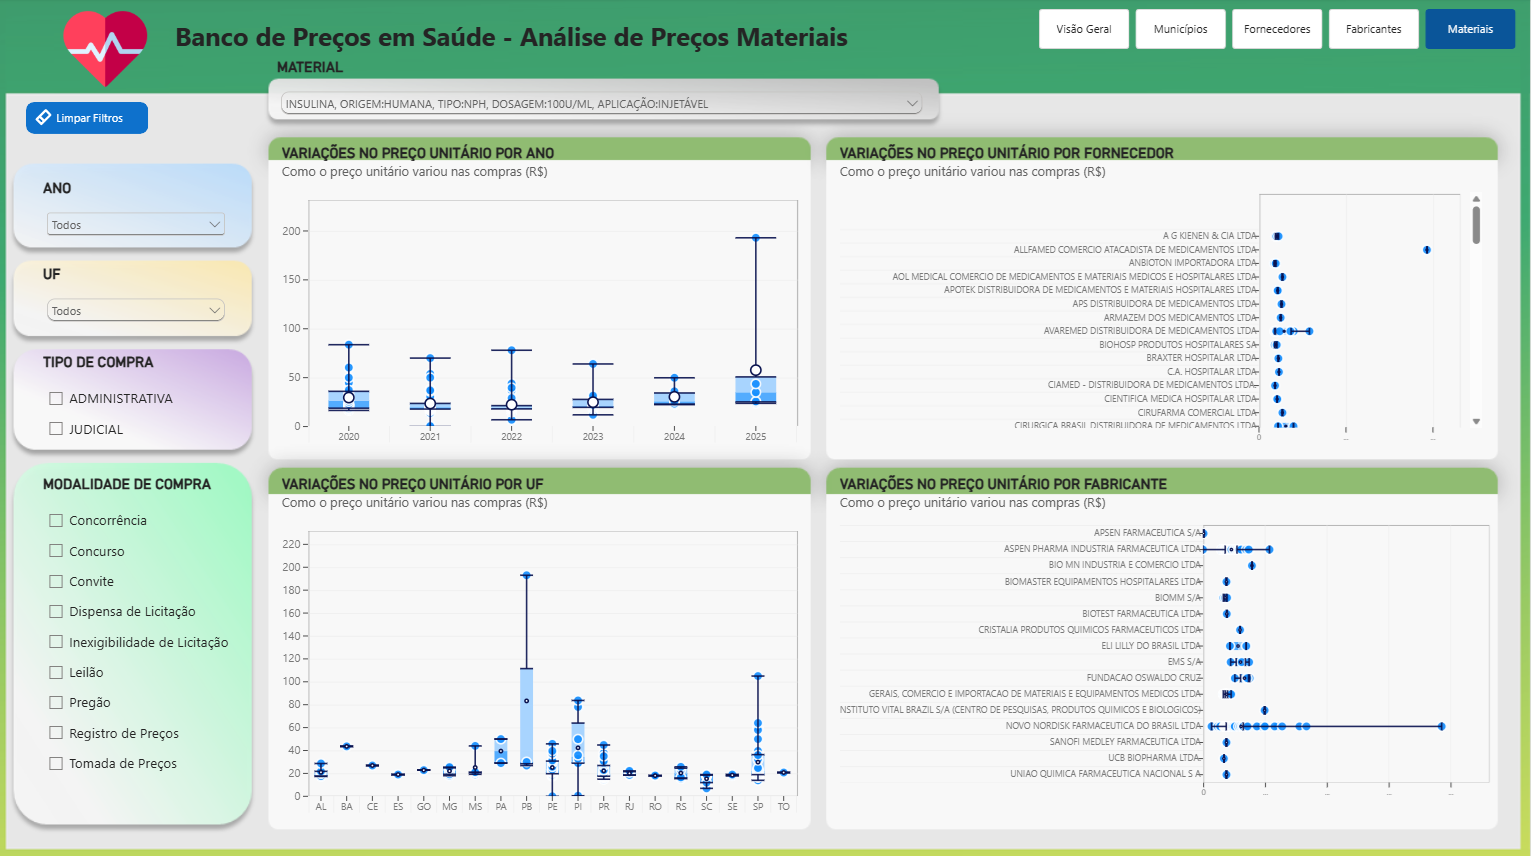

The dashboard page shown, as its layout file describes it:
{"tool":"powerbi","page":{"name":"Materiais","canvas":[1920,1080],"ordinal":4},"visuals":[{"type":"slicer","title":"MATERIAL","fields":{"Values":["Dim_materiais.descricao_catmat"]},"box":[350,75.7,814.3,80],"z":2},{"type":"slicer","title":"TIPO DE COMPRA","fields":{"Values":["Dim_tipo_compra.tipo_compra"]},"box":[56.9,445.1,233.3,118.3],"z":5},{"type":"slicer","title":"MODALIDADE DE COMPRA","fields":{"Values":["Dim_modalidade_compra.modalidade_compra"]},"box":[56.9,597.7,233.3,393.3],"z":6},{"type":"slicer","title":"ANO","fields":{"Values":["Dim_ano.ano"]},"box":[56.7,226.7,233.3,125],"z":7},{"type":"slicer","title":"UF","fields":{"Values":["Dim_municipios.uf"]},"box":[56.9,335.1,233.3,73.3],"z":8},{"type":"actionButton","box":[35,130,153.3,40],"z":9},{"type":"BoxandWhiskerByMAQ1823AD39DT234AB532063E128AX","title":"VARIAÇÕES NO PREÇO UNITÁRIO POR UF","fields":{"measure":["Sum(Fato_BPS_20_2026.preco_unitario_reais)"],"category":["Fato_BPS_20_2026.preco_unitario_reais"],"categoryGroup":["Dim_municipios.uf"]},"box":[340,584.3,678.6,452.9],"z":10},{"type":"BoxandWhiskerByMAQ1823AD39DT234AB532063E128AX","title":"VARIAÇÕES NO PREÇO UNITÁRIO POR ANO","fields":{"measure":["Sum(Fato_BPS_20_2026.preco_unitario_reais)"],"category":["Fato_BPS_20_2026.preco_unitario_reais"],"categoryGroup":["Dim_ano.ano"]},"box":[340,168.6,678.6,404.3],"z":11},{"type":"BoxandWhiskerByMAQ1823AD39DT234AB532063E128AX","title":"VARIAÇÕES NO PREÇO UNITÁRIO POR FORNECEDOR","fields":{"measure":["Sum(Fato_BPS_20_2026.preco_unitario_reais)"],"category":["Fato_BPS_20_2026.preco_unitario_reais"],"categoryGroup":["Dim_fornecedor.fornecedor"]},"box":[1038.6,168.6,837.1,404.3],"z":12},{"type":"BoxandWhiskerByMAQ1823AD39DT234AB532063E128AX","title":"VARIAÇÕES NO PREÇO UNITÁRIO POR FABRICANTE","fields":{"measure":["Sum(Fato_BPS_20_2026.preco_unitario_reais)"],"category":["Fato_BPS_20_2026.preco_unitario_reais"],"categoryGroup":["Dim_fabricante.fabricante"]},"box":[1038.6,584.3,854.3,434.3],"z":13},{"type":"pageNavigator","box":[1304.2,14.2,600,50],"z":14},{"type":"textbox","box":[221.7,25,901.7,50],"z":15},{"type":"image","box":[78.3,11.7,110,105],"z":16}]}

Visuals, with their boxes in screenshot pixels (x1, y1, x2, y2), scaled from the page's 1920x1080 canvas onto the 1531x856 screenshot:
"MATERIAL" slicer: bbox(279, 60, 928, 123)
"TIPO DE COMPRA" slicer: bbox(45, 353, 231, 447)
"MODALIDADE DE COMPRA" slicer: bbox(45, 474, 231, 785)
"ANO" slicer: bbox(45, 180, 231, 279)
"UF" slicer: bbox(45, 266, 231, 324)
actionButton: bbox(28, 103, 150, 135)
"VARIAÇÕES NO PREÇO UNITÁRIO POR UF" BoxandWhiskerByMAQ1823AD39DT234AB532063E128AX: bbox(271, 463, 812, 822)
"VARIAÇÕES NO PREÇO UNITÁRIO POR ANO" BoxandWhiskerByMAQ1823AD39DT234AB532063E128AX: bbox(271, 134, 812, 454)
"VARIAÇÕES NO PREÇO UNITÁRIO POR FORNECEDOR" BoxandWhiskerByMAQ1823AD39DT234AB532063E128AX: bbox(828, 134, 1496, 454)
"VARIAÇÕES NO PREÇO UNITÁRIO POR FABRICANTE" BoxandWhiskerByMAQ1823AD39DT234AB532063E128AX: bbox(828, 463, 1509, 807)
pageNavigator: bbox(1040, 11, 1518, 51)
textbox: bbox(177, 20, 896, 59)
image: bbox(62, 9, 150, 92)
